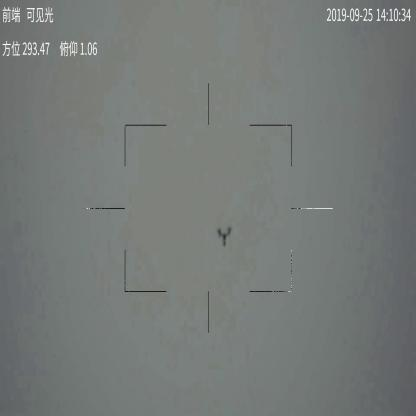uav: (215, 223, 232, 247)
